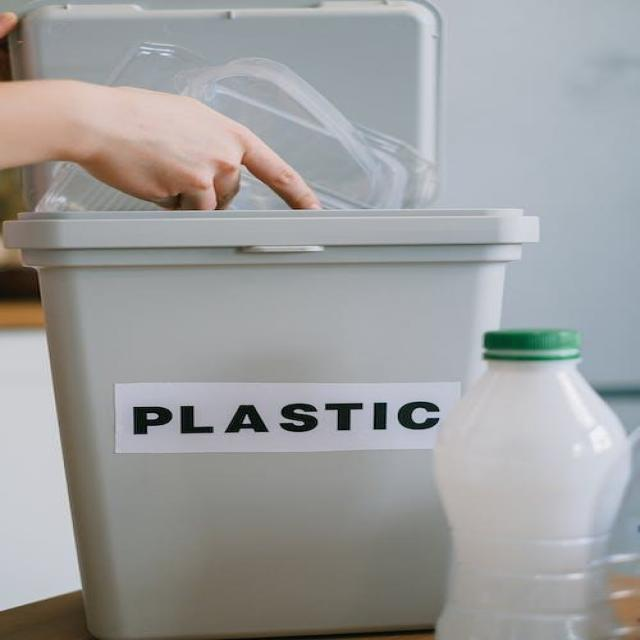plastic: (421, 315, 640, 631)
